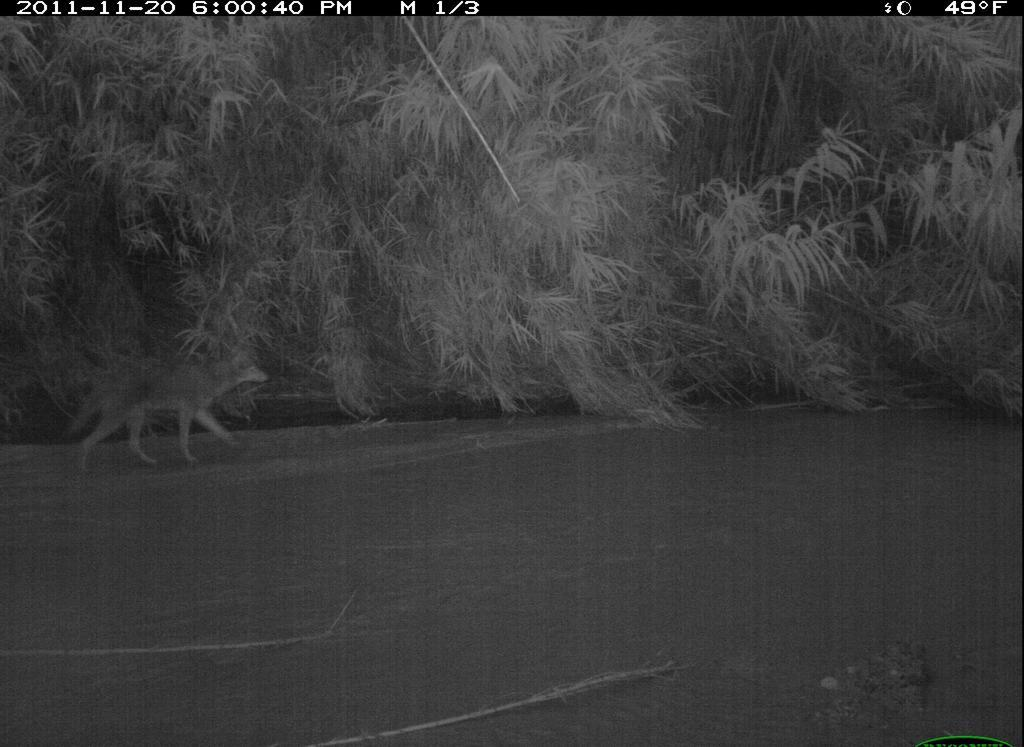coyote: (62, 344, 273, 478)
